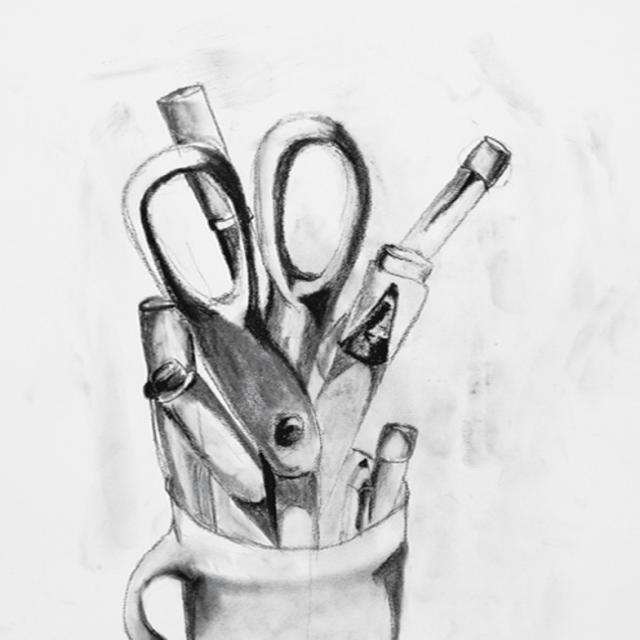scissors: (118, 82, 512, 639)
